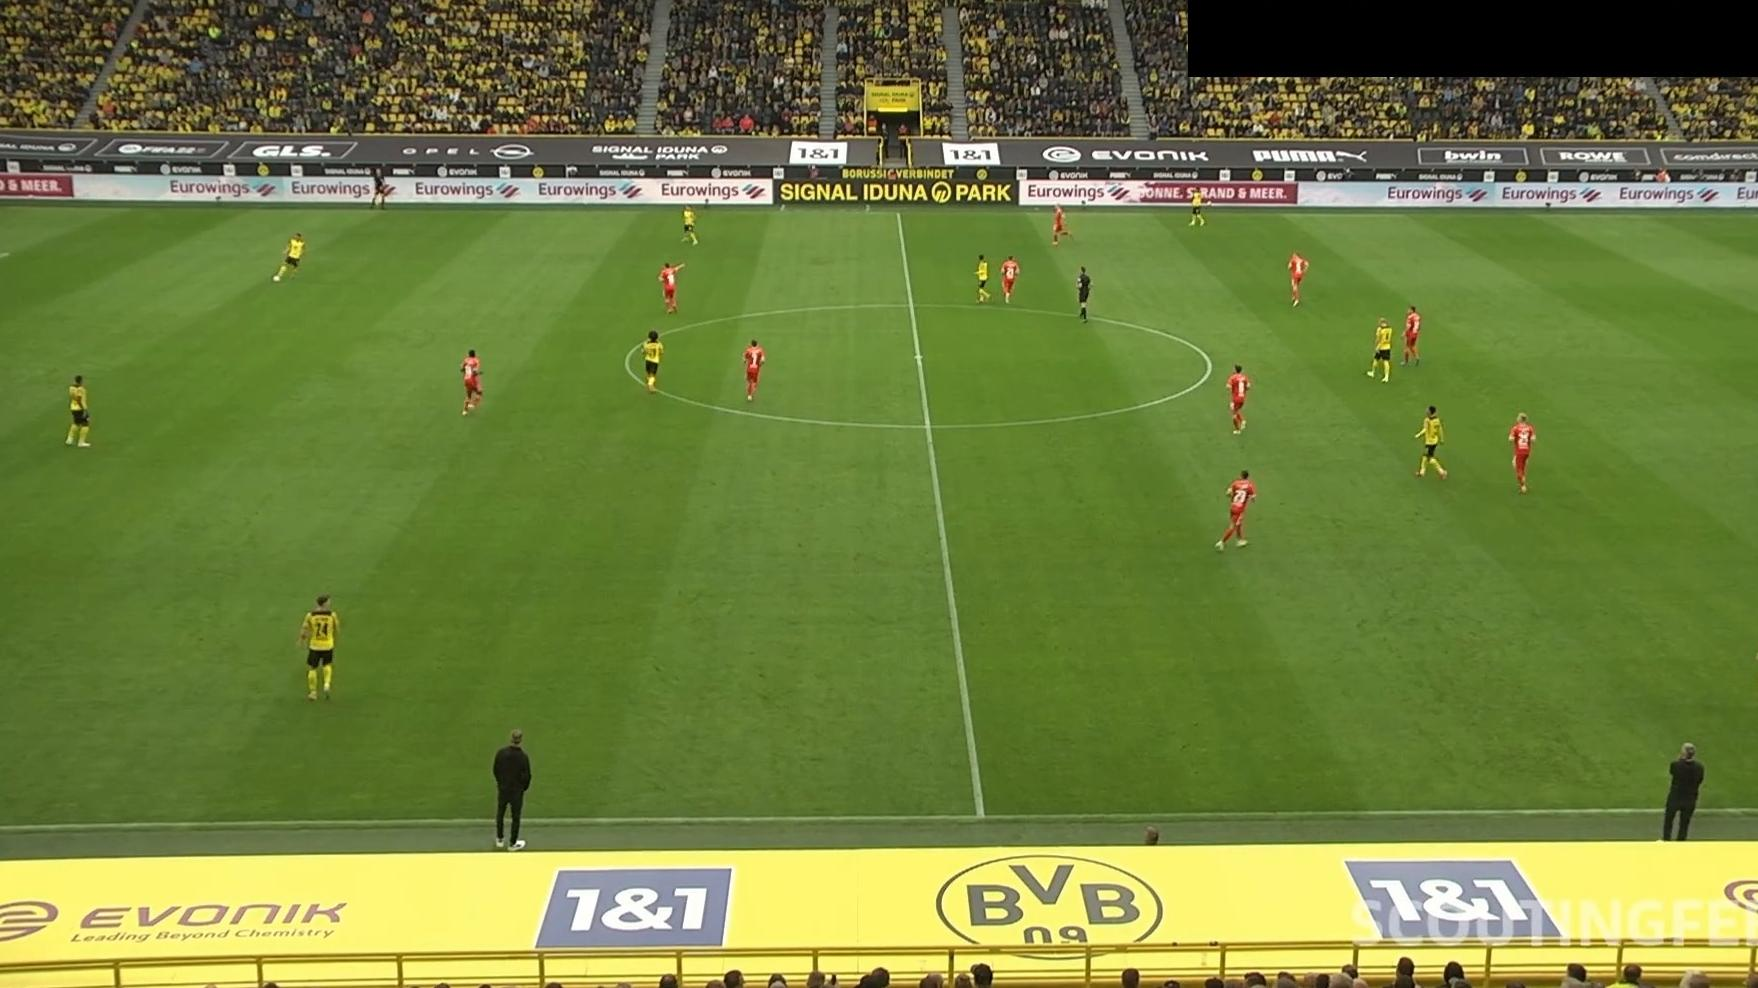ball: (270, 273, 281, 285)
